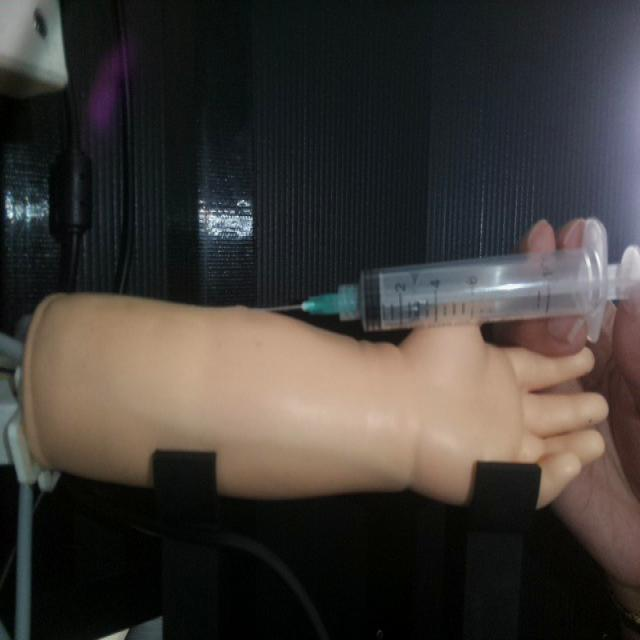Below 15 degrees: (263, 228, 638, 341)
